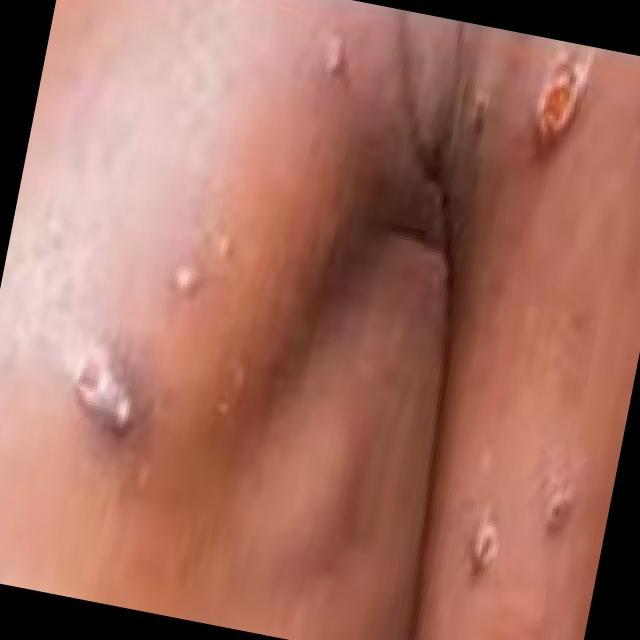Eczema: (71, 232, 254, 457), (465, 481, 582, 571), (516, 49, 594, 155)
